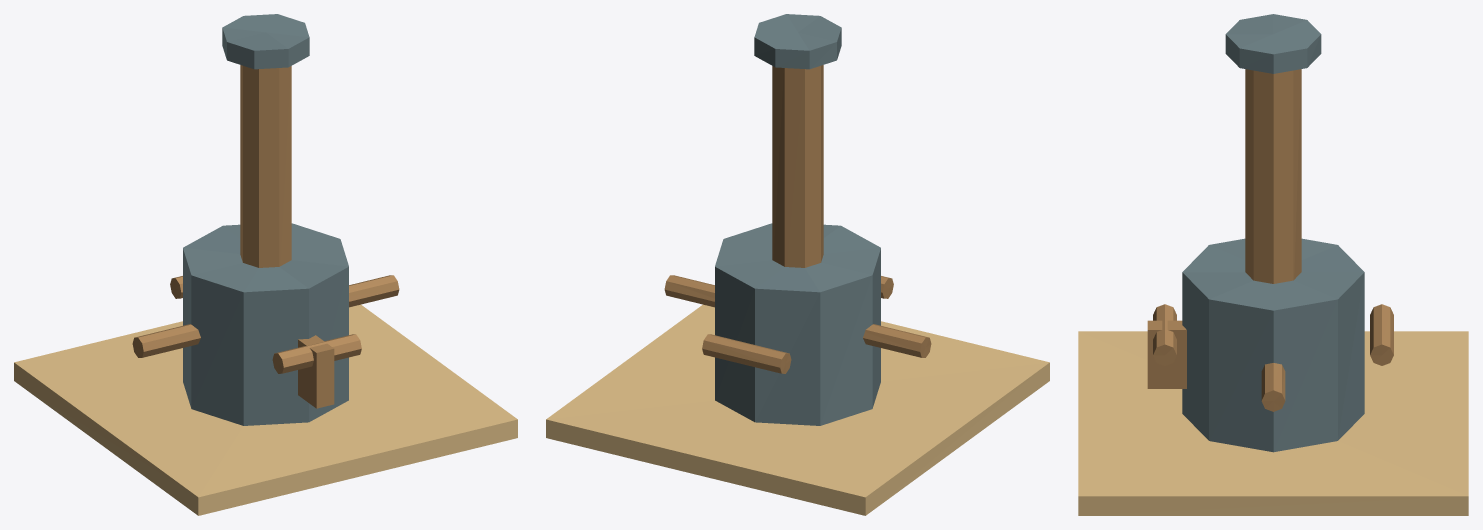
File: frost-heater.source.glb
3 views of the same model, side by side, from view 1: azimuth 30°, elevation 25°; view 2: azimuth 150°, elevation 25°; view 3: azimuth 270°, elevation 25° (orthographic). The views are drawn at different scales.
Visible parts, largest first — view 1: frost-heater-base-mesh, frost-heater-heater-pot-mesh, frost-heater-flue-mesh, frost-heater-cap-mesh, frost-heater-burner-door-mesh, frost-heater-heat-fin-1-mesh, frost-heater-heat-fin-2-mesh, frost-heater-heat-fin-0-mesh; view 2: frost-heater-base-mesh, frost-heater-heater-pot-mesh, frost-heater-flue-mesh, frost-heater-cap-mesh, frost-heater-heat-fin-3-mesh, frost-heater-heat-fin-2-mesh, frost-heater-heat-fin-0-mesh; view 3: frost-heater-base-mesh, frost-heater-heater-pot-mesh, frost-heater-flue-mesh, frost-heater-cap-mesh, frost-heater-burner-door-mesh, frost-heater-heat-fin-3-mesh, frost-heater-heat-fin-1-mesh, frost-heater-heat-fin-0-mesh.
Boxes of the visible parts, bbox=[...] form: frost-heater-base-mesh: bbox=[14, 304, 517, 515]; frost-heater-heater-pot-mesh: bbox=[183, 223, 348, 425]; frost-heater-flue-mesh: bbox=[240, 65, 291, 267]; frost-heater-cap-mesh: bbox=[222, 14, 309, 69]; frost-heater-burner-door-mesh: bbox=[298, 335, 334, 408]; frost-heater-heat-fin-1-mesh: bbox=[272, 334, 361, 373]; frost-heater-heat-fin-2-mesh: bbox=[132, 324, 200, 357]; frost-heater-heat-fin-0-mesh: bbox=[349, 275, 399, 307]; frost-heater-base-mesh: bbox=[546, 304, 1049, 515]; frost-heater-heater-pot-mesh: bbox=[715, 223, 880, 425]; frost-heater-flue-mesh: bbox=[772, 65, 823, 267]; frost-heater-cap-mesh: bbox=[754, 14, 841, 69]; frost-heater-heat-fin-3-mesh: bbox=[702, 334, 791, 373]; frost-heater-heat-fin-2-mesh: bbox=[863, 324, 931, 357]; frost-heater-heat-fin-0-mesh: bbox=[664, 275, 714, 307]; frost-heater-base-mesh: bbox=[1078, 331, 1468, 515]; frost-heater-heater-pot-mesh: bbox=[1182, 238, 1364, 452]; frost-heater-flue-mesh: bbox=[1245, 69, 1301, 283]; frost-heater-cap-mesh: bbox=[1225, 14, 1321, 73]; frost-heater-burner-door-mesh: bbox=[1147, 320, 1186, 388]; frost-heater-heat-fin-3-mesh: bbox=[1370, 304, 1393, 365]; frost-heater-heat-fin-1-mesh: bbox=[1153, 304, 1176, 365]; frost-heater-heat-fin-0-mesh: bbox=[1261, 363, 1285, 411].
Size of the model in its own units: 1.8 by 2.03 by 1.8.
